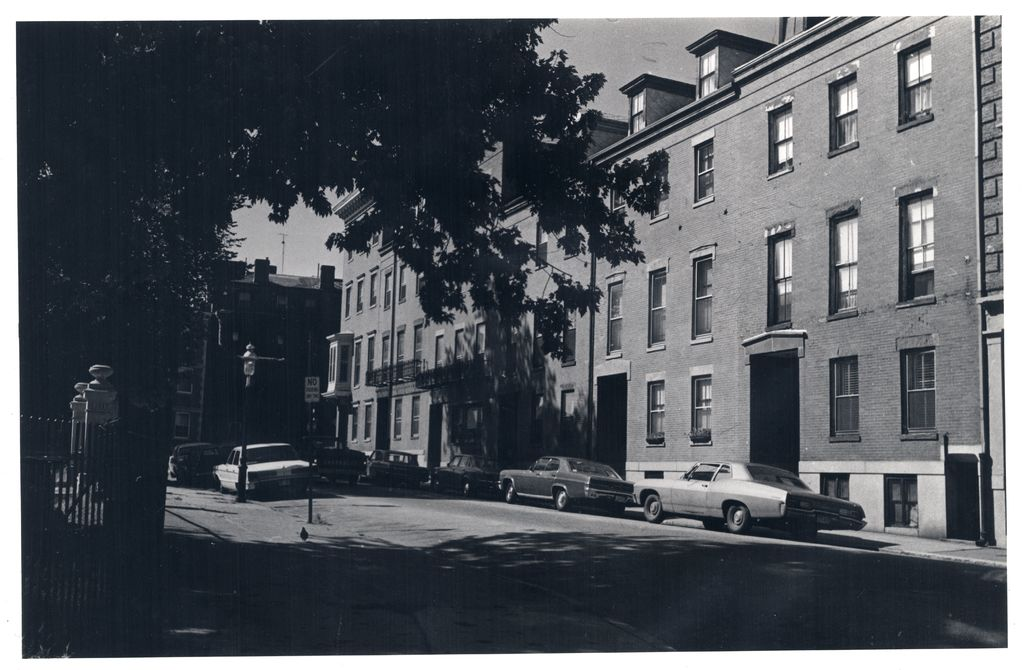Tree: (19, 19, 675, 360)
